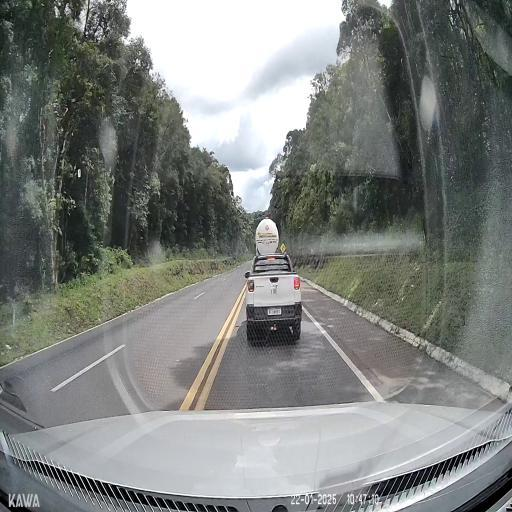A-2b: (280, 242, 286, 254)
